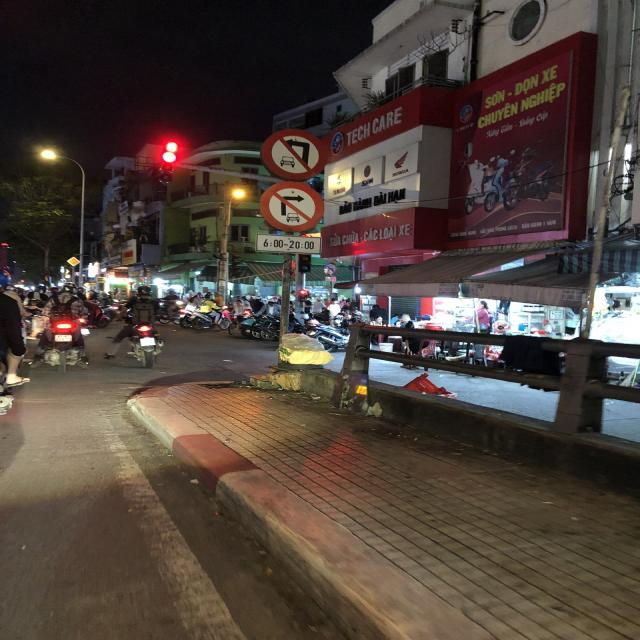Bien bao cam xe o to re phai: (253, 178, 331, 238)
Bien bao cam xe o to re trai: (256, 123, 328, 181)
